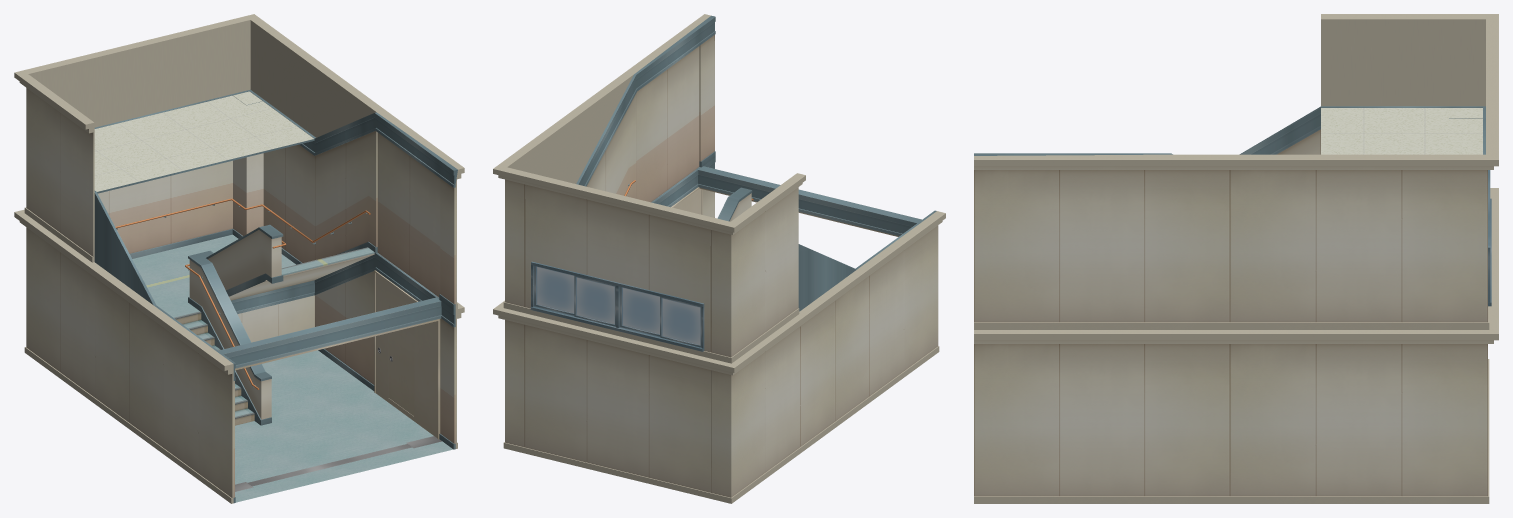
Rendered from SHW_Stairs_01_01.fbx.
3 views of the same model, side by side, from view 1: azimuth 30°, elevation 25°; view 2: azimuth 150°, elevation 25°; view 3: azimuth 270°, elevation 25° (orthographic). The views are drawn at different scales.
Visible parts, largest first — view 1: wall_01, floor_01, ceiling_01, door_R, fire_door_01, door2_R, handrail_01; view 2: wall_01, glass02 (×4), window; view 3: wall_01, ceiling_01.
Part boxes in pixels (x1,y1,x2,y2): wall_01: [14, 14, 464, 503]; floor_01: [235, 350, 453, 502]; ceiling_01: [94, 91, 313, 191]; door_R: [375, 273, 437, 438]; fire_door_01: [235, 270, 441, 491]; door2_R: [388, 305, 414, 416]; handrail_01: [115, 198, 370, 389]; wall_01: [493, 14, 945, 503]; glass02 (×4): [536, 266, 700, 345]; window: [530, 261, 704, 351]; wall_01: [974, 14, 1498, 503]; ceiling_01: [1321, 108, 1482, 154].
Size of the model in its own units: 540 by 602 by 820.
